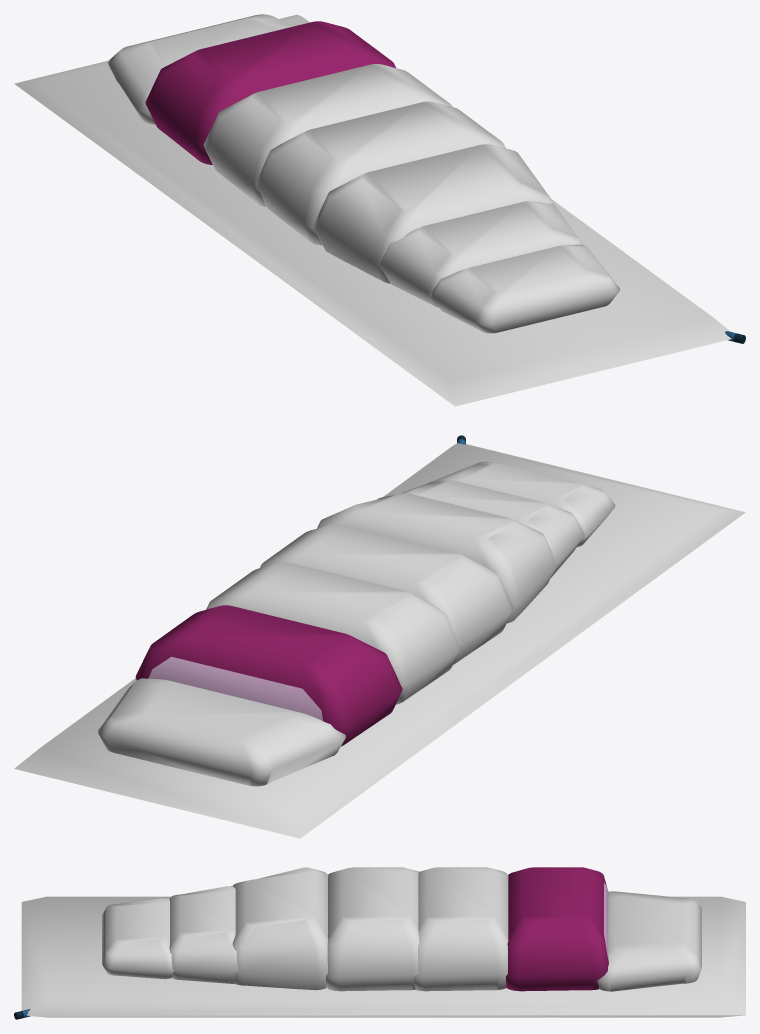
3 renders of one model, top to bottom at view 1: azimuth 30°, elevation 25°; view 2: azimuth 150°, elevation 25°; view 3: azimuth 270°, elevation 25°, orthographic. The views are drawn at different scales.
Parts seen in each view (by area): view 1: Group_001, Group_007, Group_009, Group_003, Group_004, Group_005, Group_008, Group_006; view 2: Group_001, Group_009, Group_006, Group_004, Group_003, Group_007, Group_005, Group_008; view 3: Group_001, Group_009, Group_003, Group_004, Group_007, Group_006, Group_008, Group_005.
Boxes of the visible parts, x1,y1,x2,y2 form: Group_001: [14, 14, 731, 406]; Group_007: [313, 144, 553, 283]; Group_009: [145, 21, 395, 164]; Group_003: [255, 101, 505, 245]; Group_004: [203, 64, 452, 206]; Group_005: [429, 244, 619, 333]; Group_008: [379, 201, 582, 307]; Group_006: [108, 14, 294, 124]; Group_001: [14, 443, 745, 838]; Group_009: [135, 605, 402, 746]; Group_006: [97, 678, 345, 786]; Group_004: [206, 562, 460, 704]; Group_003: [260, 524, 513, 664]; Group_007: [317, 493, 557, 623]; Group_005: [435, 461, 615, 546]; Group_008: [401, 480, 584, 577]; Group_001: [21, 896, 745, 1017]; Group_009: [506, 867, 608, 991]; Group_003: [326, 867, 419, 991]; Group_004: [413, 867, 508, 991]; Group_007: [232, 867, 328, 990]; Group_006: [597, 891, 701, 991]; Group_008: [169, 886, 238, 983]; Group_005: [102, 897, 173, 979].
Bounding box in the file's own units: 744 × 219 × 1991.
